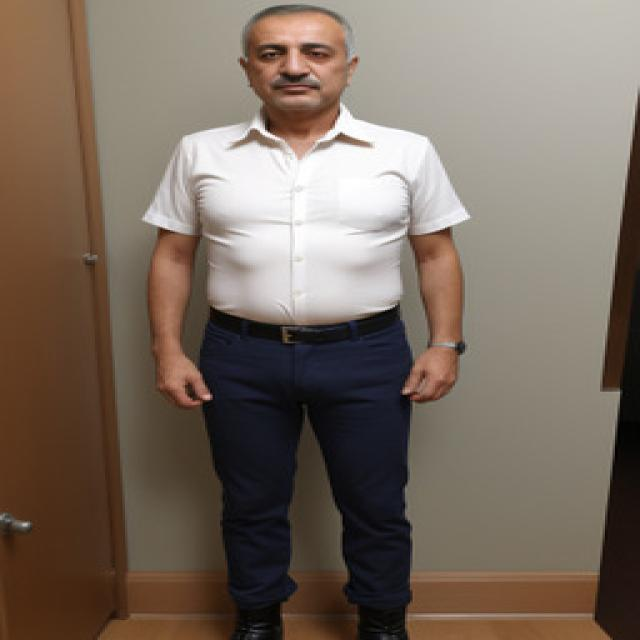Ai human 2: (132, 0, 485, 640)
